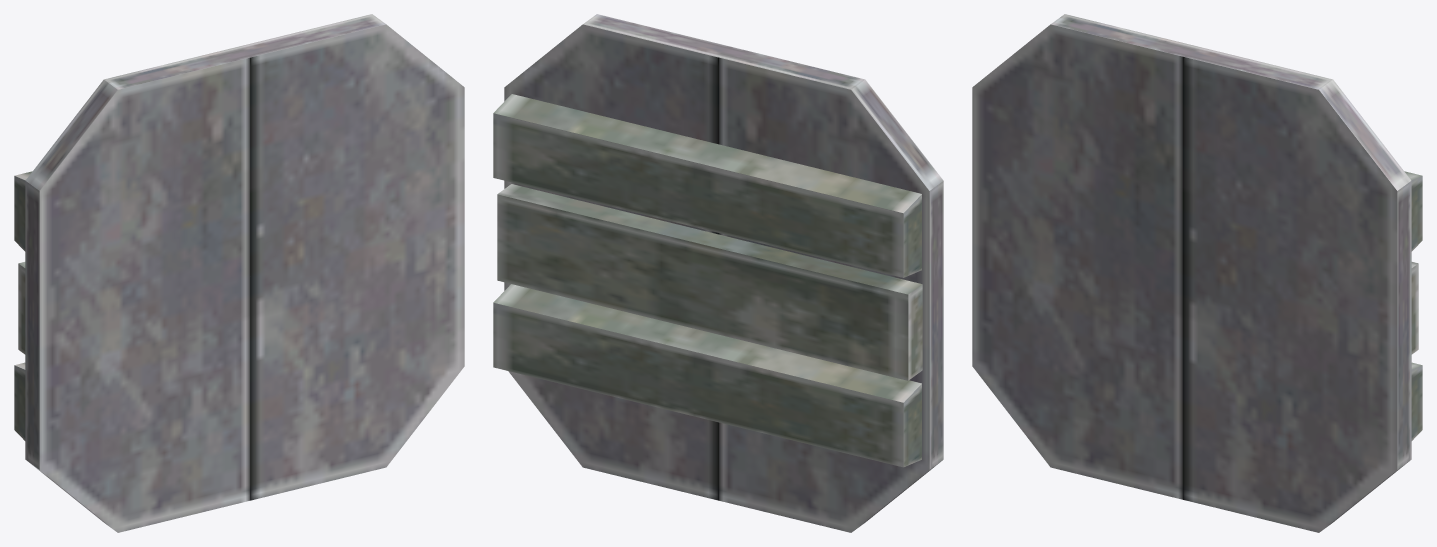
File: eqp_comp_armor_segment.fbx
The picture shows the model from 3 angles, left to right: view 1: azimuth 30°, elevation 25°; view 2: azimuth 150°, elevation 25°; view 3: azimuth 330°, elevation 25°; orthographic projection.
Visible parts, largest first — view 1: mesh_node; view 2: mesh_node; view 3: mesh_node.
Part boxes in pixels (x1,y1,x2,y2): mesh_node: (14,14,464,532); mesh_node: (493,14,943,532); mesh_node: (972,14,1422,532).
Bounding box in the file's own units: 0.5969 × 0.5946 × 0.0797.
1 material, 1 textured.
